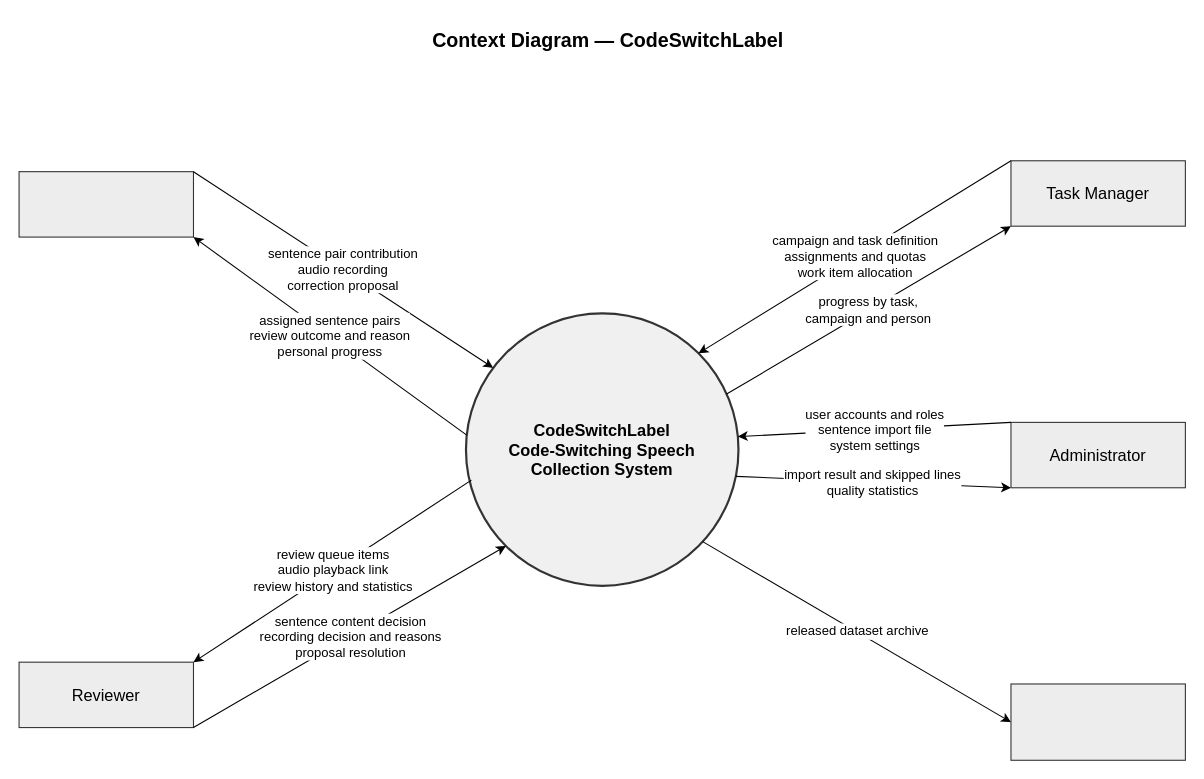
Some shapes in this 1204 by 779 pixel diagram are drawn without their labels. Each missing label, with the box of its shape:
ASR Research Consumer: (1010, 683, 1185, 760)
Speaker: (18, 171, 193, 237)
